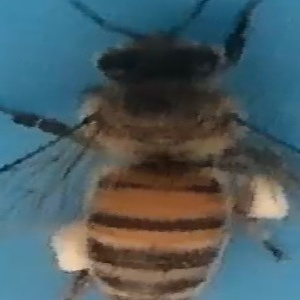bee: (3, 4, 298, 300)
